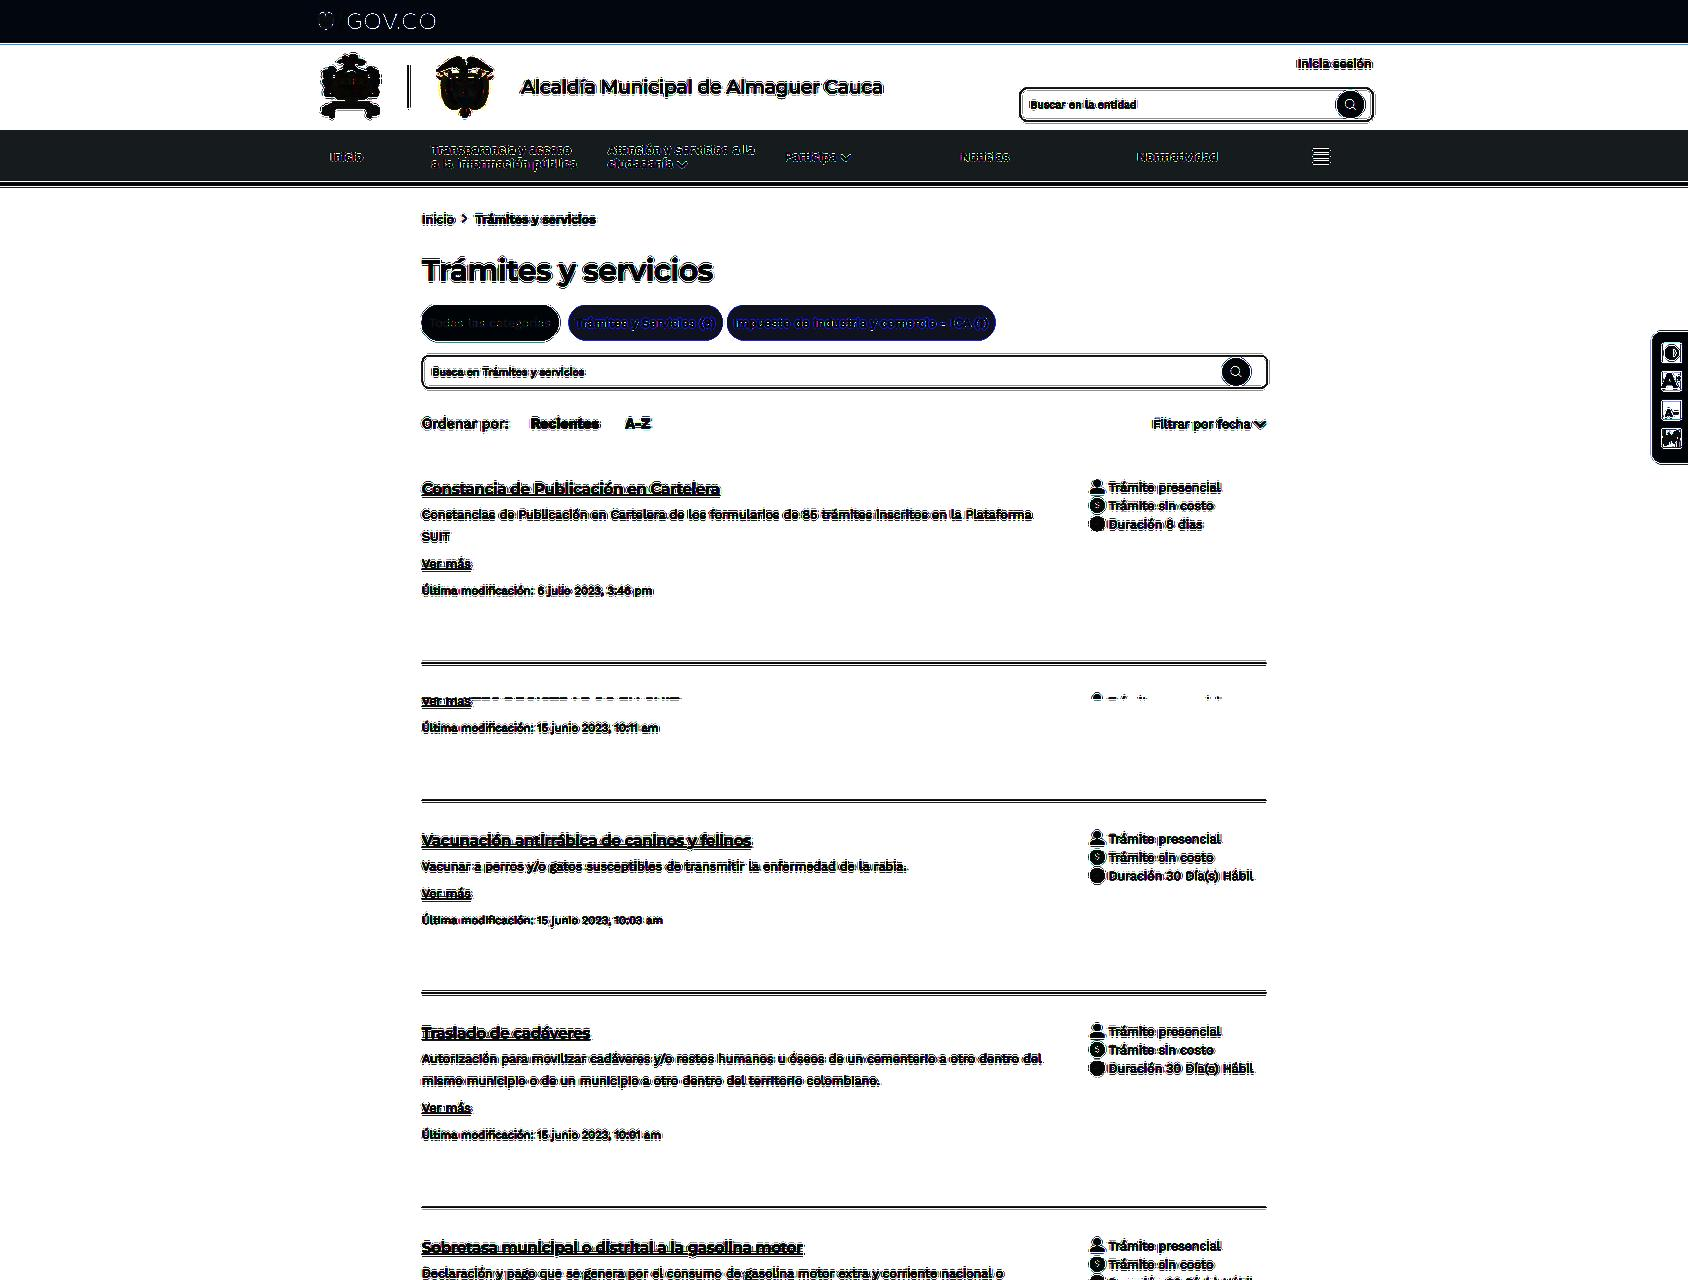barra accesibilidad: (1653, 330, 1688, 463)
barra govco: (311, 0, 1485, 43)
btn atencion ciudadano: (606, 141, 757, 172)
btn buscador: (420, 351, 1273, 392), (1016, 84, 1378, 123), (1335, 89, 1364, 119), (1229, 364, 1245, 381)
btn inicio: (328, 149, 367, 164)
btn inicio sesion: (1294, 55, 1374, 71)
btn normatividad: (1134, 148, 1222, 164)
btn noticias: (957, 146, 1013, 166)
btn participa: (779, 148, 854, 167)
btn tramites: (418, 255, 714, 288), (472, 211, 600, 231)
btn transpariencia: (427, 139, 582, 172)
logogovco: (313, 8, 442, 33)
menu principal: (327, 124, 1338, 177)
